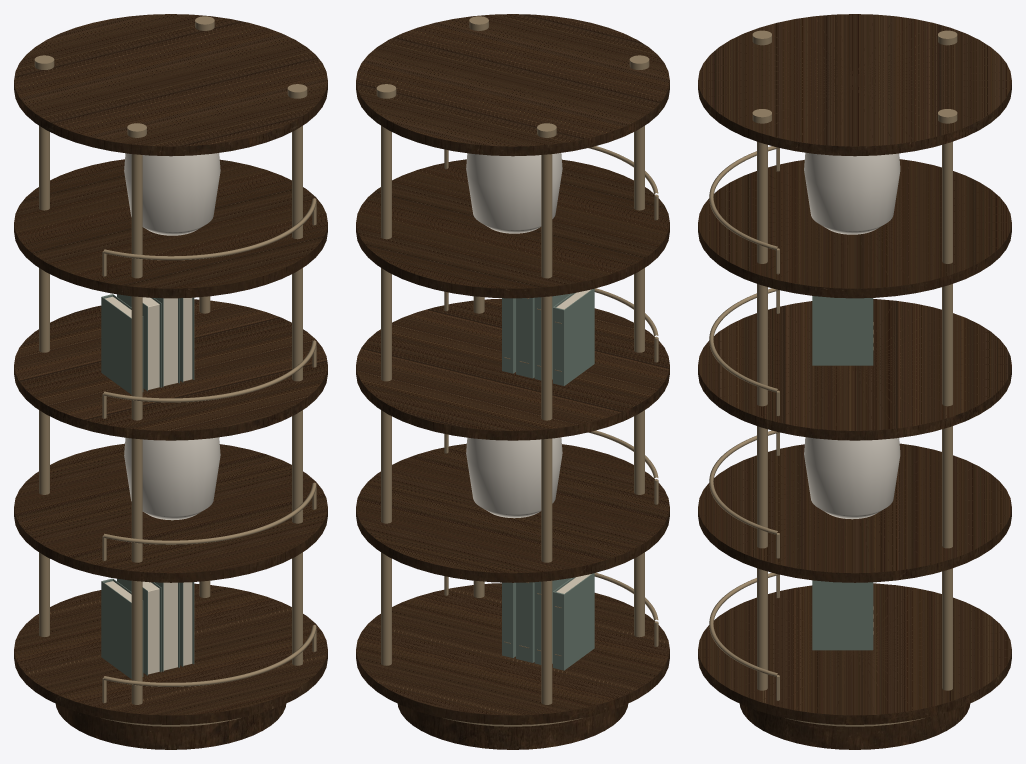
File: storage2-circular-etagere.glb
3 renders of one model, left to right at view 1: azimuth 30°, elevation 25°; view 2: azimuth 150°, elevation 25°; view 3: azimuth 270°, elevation 25°, orthographic.
Visible parts, largest first — view 1: walnut_surfaces, bronze_surfaces, ceramic_surfaces, binding_surfaces, paper_surfaces; view 2: walnut_surfaces, bronze_surfaces, binding_surfaces, ceramic_surfaces; view 3: walnut_surfaces, bronze_surfaces, ceramic_surfaces, binding_surfaces.
Part boxes in pixels (<box>): walnut_surfaces: <box>14,14,327,749</box>; bronze_surfaces: <box>34,16,316,726</box>; ceramic_surfaces: <box>124,153,220,520</box>; binding_surfaces: <box>101,294,194,678</box>; paper_surfaces: <box>105,296,192,674</box>; walnut_surfaces: <box>356,14,669,749</box>; bronze_surfaces: <box>376,16,658,726</box>; binding_surfaces: <box>502,288,594,670</box>; ceramic_surfaces: <box>466,153,562,518</box>; walnut_surfaces: <box>698,14,1011,749</box>; bronze_surfaces: <box>709,30,957,726</box>; ceramic_surfaces: <box>804,152,900,519</box>; binding_surfaces: <box>812,296,873,650</box>.
Size of the model in its own units: 0.8 by 1.76 by 0.8.
Materials: 5 (1 with a texture image).
